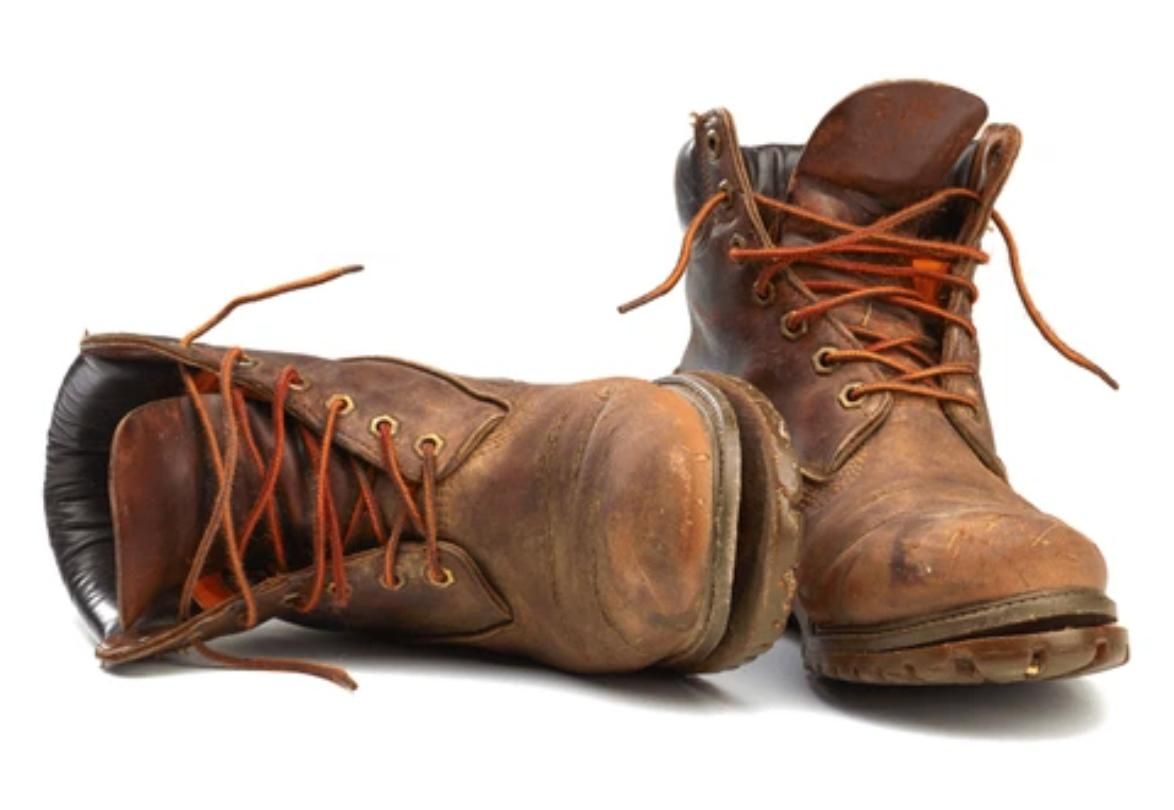bonding: (694, 369, 790, 690), (863, 591, 1134, 665)
